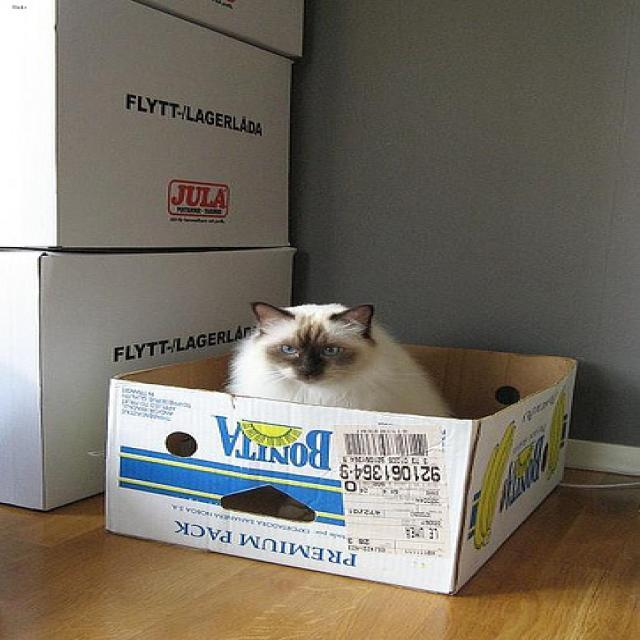Birman: (250, 300, 372, 384)
